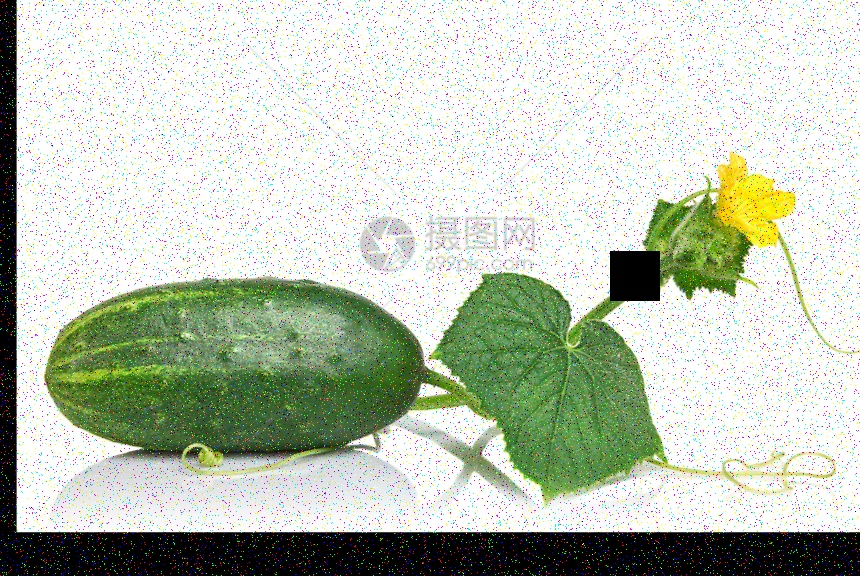cucumber: (43, 282, 427, 454)
cucumber_plant: (431, 132, 808, 493)
